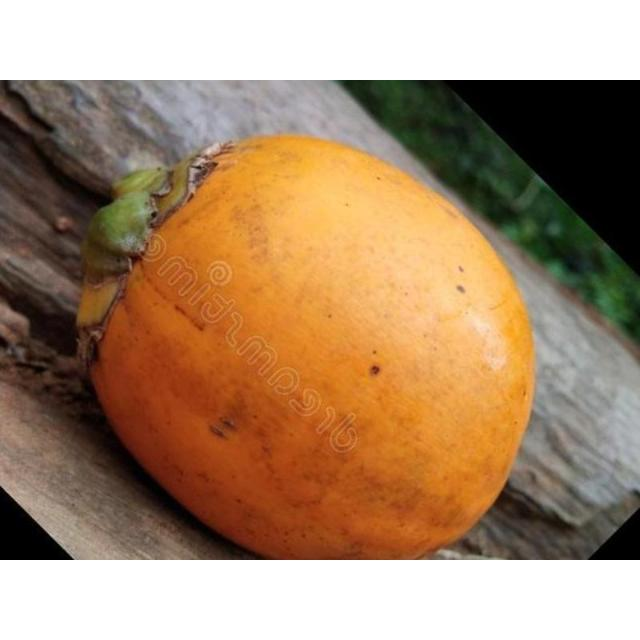good: (74, 135, 538, 559)
